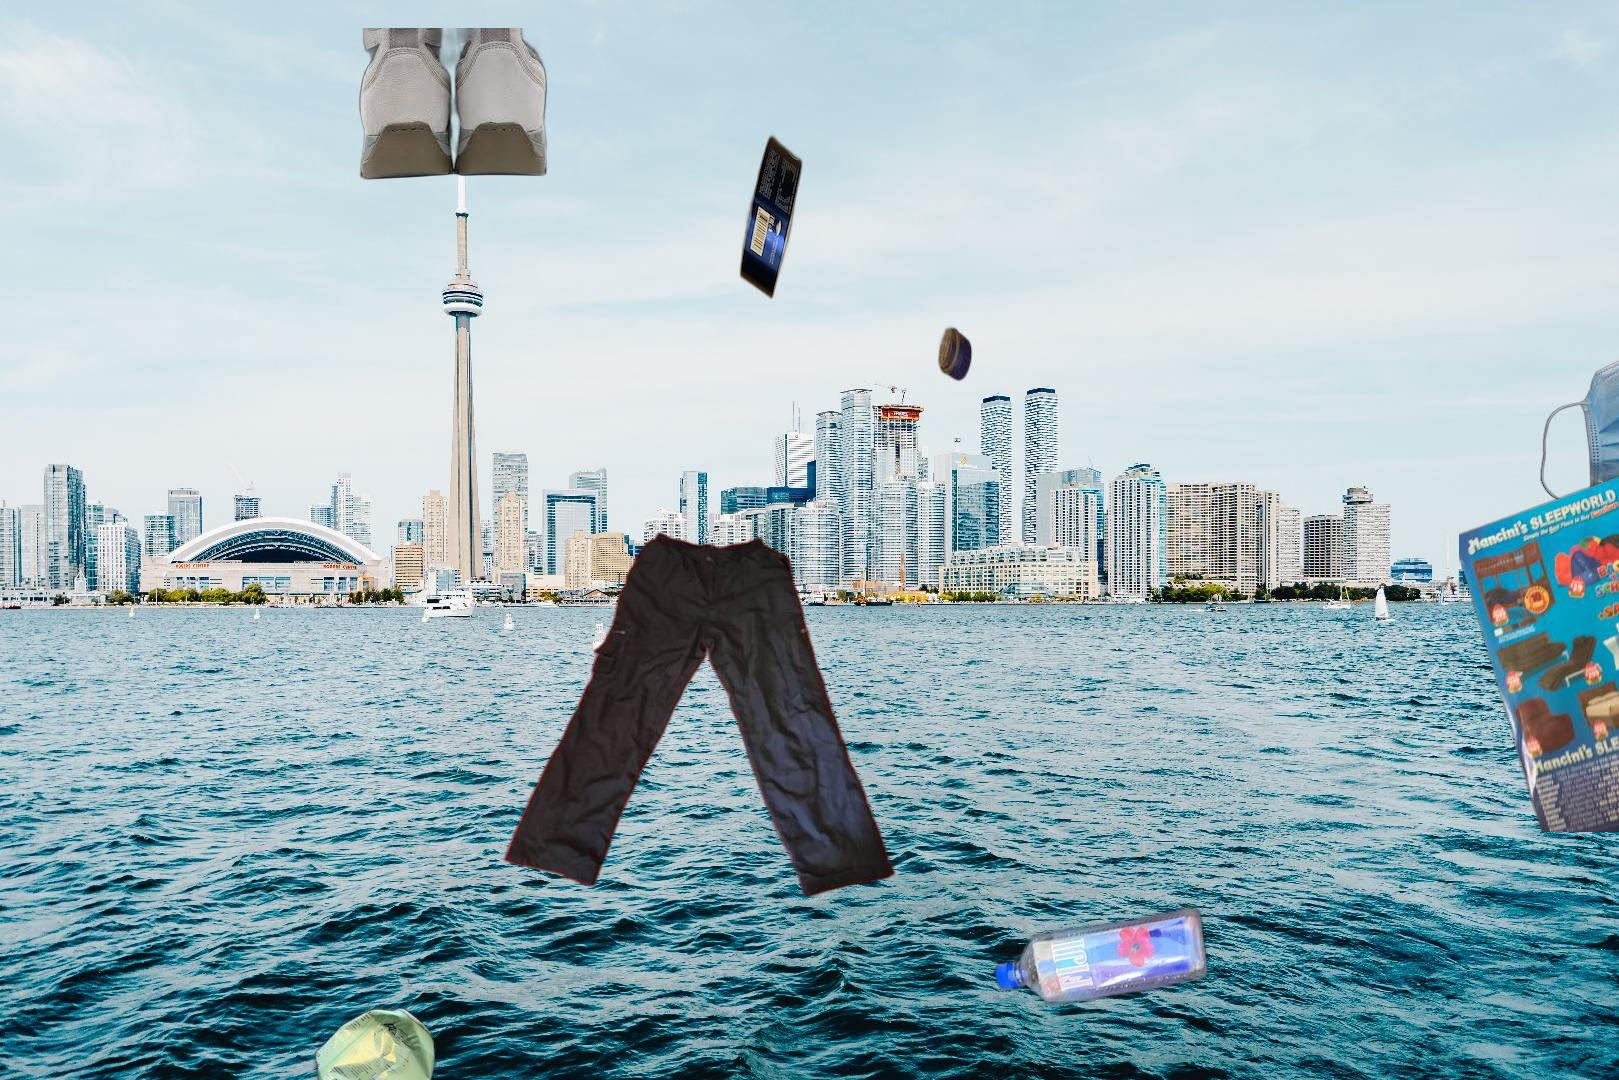clothes: (501, 529, 901, 900)
metal-cans: (312, 1002, 439, 1080)
paper: (1459, 448, 1619, 832)
plastic-bottles: (653, 131, 975, 576), (989, 900, 1212, 1010)
shoes: (356, 28, 550, 182)
trash: (1538, 346, 1619, 506)
